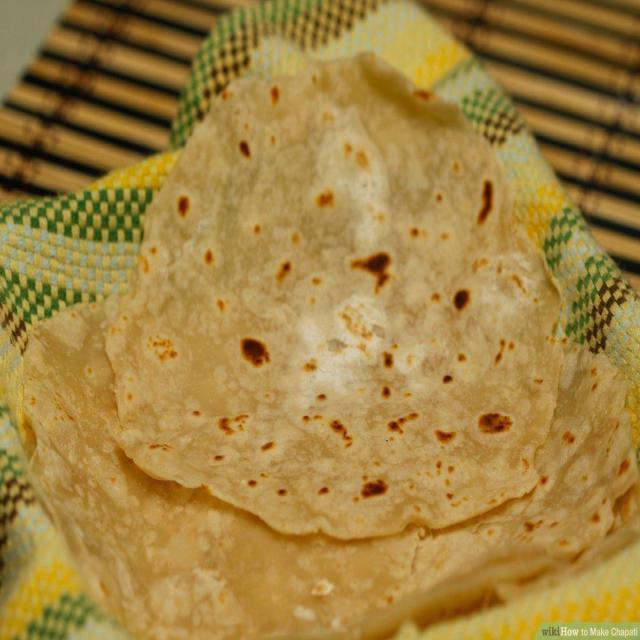roti: (100, 54, 564, 540), (21, 292, 640, 640)
